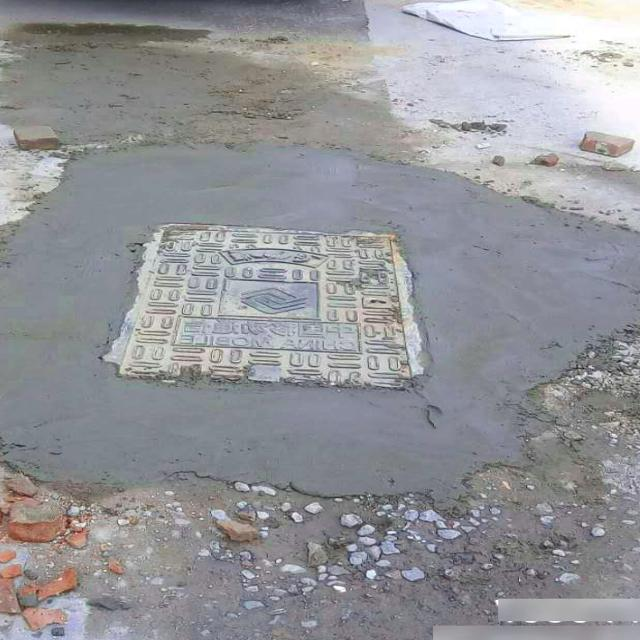good: (110, 223, 427, 393)
